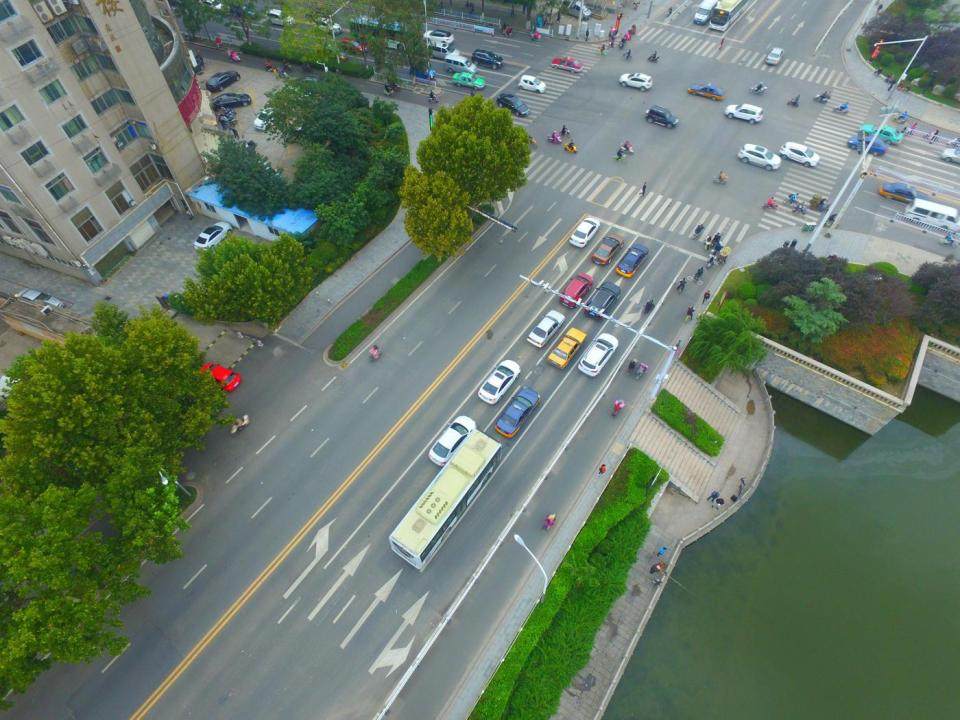bus: (388, 427, 508, 571), (707, 0, 752, 32)
car: (426, 414, 479, 468), (494, 386, 541, 436), (900, 197, 960, 233), (478, 359, 520, 407), (576, 332, 618, 378), (545, 326, 587, 369), (196, 363, 245, 395), (17, 288, 64, 320), (527, 310, 565, 348), (585, 280, 620, 321), (879, 180, 931, 206), (737, 142, 783, 171), (243, 157, 284, 188), (559, 272, 593, 308), (616, 242, 649, 278), (778, 140, 820, 168), (192, 221, 232, 250), (591, 234, 624, 265), (294, 109, 328, 139), (860, 123, 906, 145), (568, 217, 600, 248), (723, 102, 764, 125), (646, 104, 682, 130), (848, 134, 888, 157), (212, 90, 252, 112), (496, 92, 530, 117), (687, 81, 727, 101), (617, 71, 654, 92), (206, 69, 241, 91), (254, 106, 282, 133), (265, 7, 297, 30), (450, 70, 485, 90), (313, 13, 342, 36), (228, 0, 258, 22), (422, 28, 456, 47), (294, 74, 329, 92), (472, 49, 505, 68), (551, 56, 585, 74), (316, 42, 348, 61), (406, 61, 436, 81), (517, 74, 547, 94), (338, 36, 369, 55), (306, 5, 335, 22), (180, 58, 205, 76), (197, 0, 227, 15), (764, 46, 784, 66)
van: (424, 40, 464, 61), (444, 54, 477, 76), (690, 0, 717, 25), (562, 0, 592, 20)
